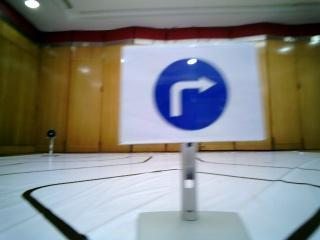right: (127, 47, 258, 138)
